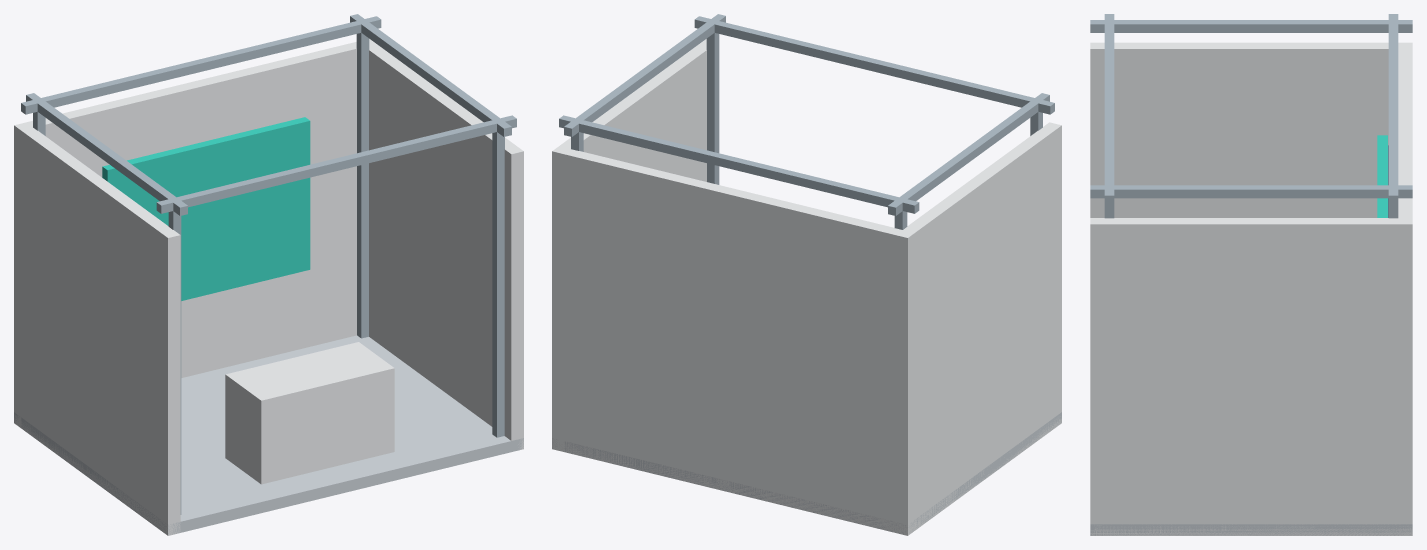
3 views of the same model, side by side, from view 1: azimuth 30°, elevation 25°; view 2: azimuth 150°, elevation 25°; view 3: azimuth 270°, elevation 25° (orthographic). The views are drawn at different scales.
Visible parts, largest first — view 1: Exhibition Booth Concept; view 2: Exhibition Booth Concept; view 3: Exhibition Booth Concept.
Boxes of the visible parts, bbox=[...] form: Exhibition Booth Concept: bbox=[14, 14, 523, 535]; Exhibition Booth Concept: bbox=[552, 14, 1061, 535]; Exhibition Booth Concept: bbox=[1090, 14, 1412, 535].
Bounding box in the file's own units: 4 × 3.49 × 3.
